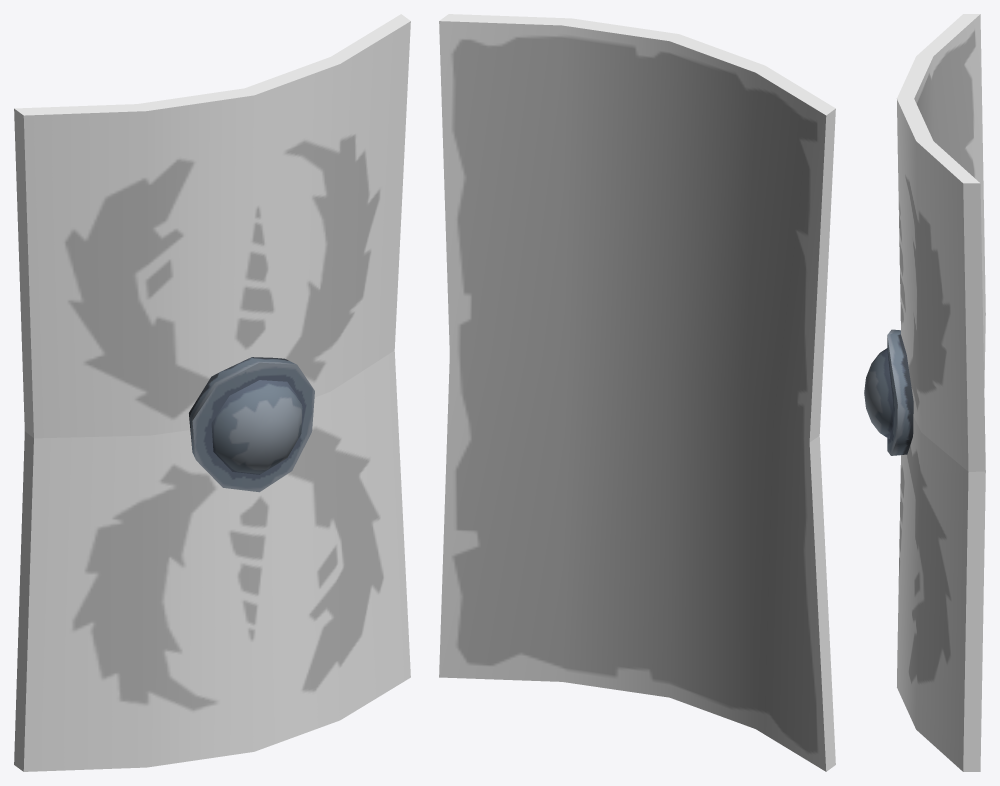
File: ShieldSquare1.fbx
3 views of the same model, side by side, from view 1: azimuth 30°, elevation 25°; view 2: azimuth 150°, elevation 25°; view 3: azimuth 270°, elevation 25° (orthographic). The views are drawn at different scales.
Visible parts, largest first — view 1: ShieldSquare1; view 2: ShieldSquare1; view 3: ShieldSquare1.
Boxes of the visible parts, bbox=[...] form: ShieldSquare1: bbox=[14, 14, 410, 771]; ShieldSquare1: bbox=[439, 14, 835, 771]; ShieldSquare1: bbox=[864, 14, 985, 771].
Bounding box in the file's own units: 75.08 × 122 × 22.8.
